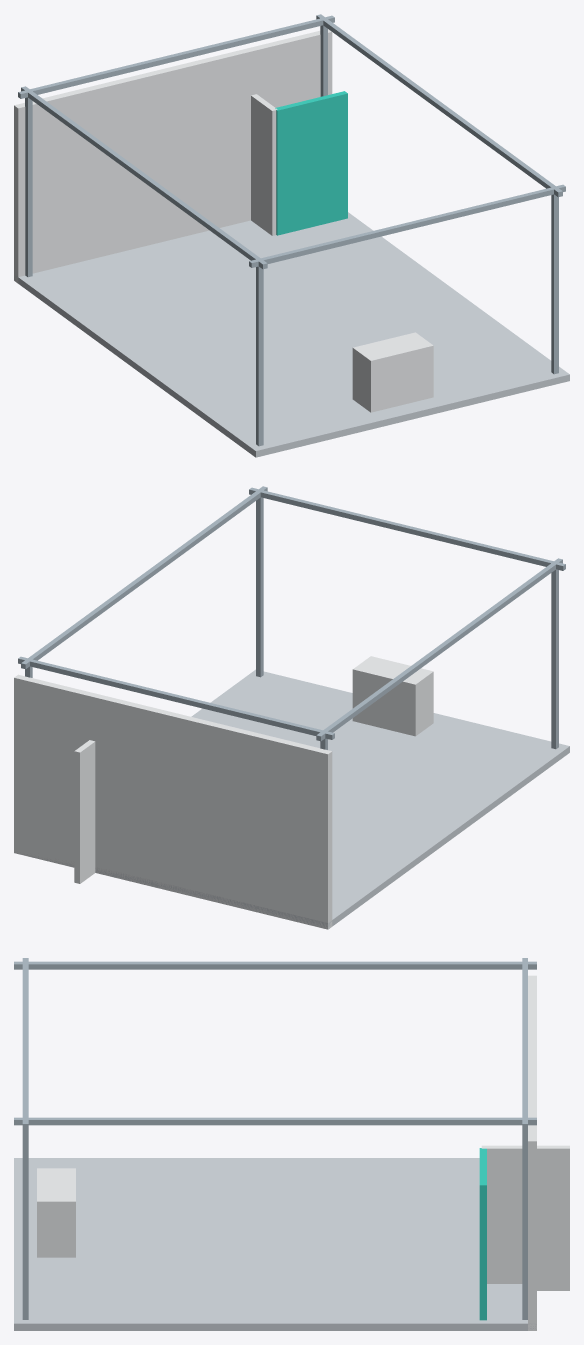
3 views of the same model, one above another, from view 1: azimuth 30°, elevation 25°; view 2: azimuth 150°, elevation 25°; view 3: azimuth 270°, elevation 25° (orthographic). The views are drawn at different scales.
Parts seen in each view (by area): view 1: Exhibition Booth Concept; view 2: Exhibition Booth Concept; view 3: Exhibition Booth Concept.
Boxes of the visible parts, <box> form: Exhibition Booth Concept: <box>14,14,569,457</box>; Exhibition Booth Concept: <box>14,486,569,929</box>; Exhibition Booth Concept: <box>14,958,569,1330</box>.
Bounding box in the file's own units: 6 × 3.49 × 8.51.
